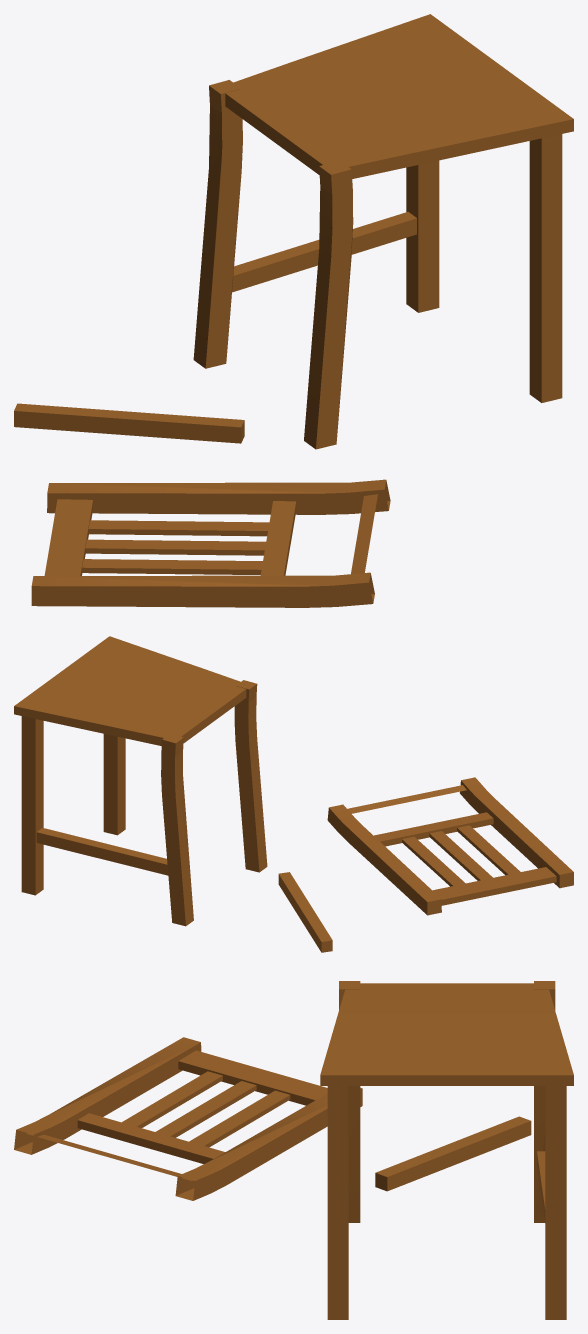
Rendered from b_sandalye.obj.
3 views of the same model, one above another, from view 1: azimuth 30°, elevation 25°; view 2: azimuth 150°, elevation 25°; view 3: azimuth 270°, elevation 25° (orthographic). The views are drawn at different scales.
Parts seen in each view (by area): view 1: Cube.152_m_koyuahşap; view 2: Cube.152_m_koyuahşap; view 3: Cube.152_m_koyuahşap.
Part boxes in pixels (bbox=[...]): Cube.152_m_koyuahşap: bbox=[14, 14, 573, 607]; Cube.152_m_koyuahşap: bbox=[14, 636, 573, 952]; Cube.152_m_koyuahşap: bbox=[14, 981, 573, 1319].
Bounding box in the file's own units: 14.72 × 6.38 × 13.03.
